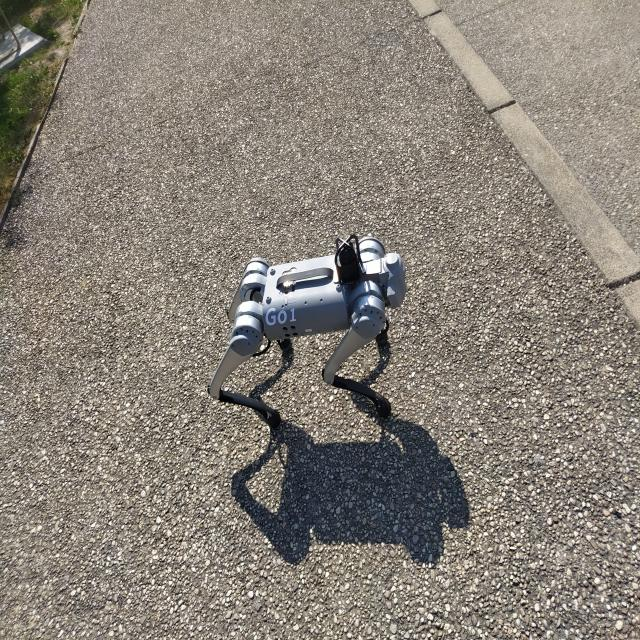unitree-go1-robot: (198, 234, 406, 421)
